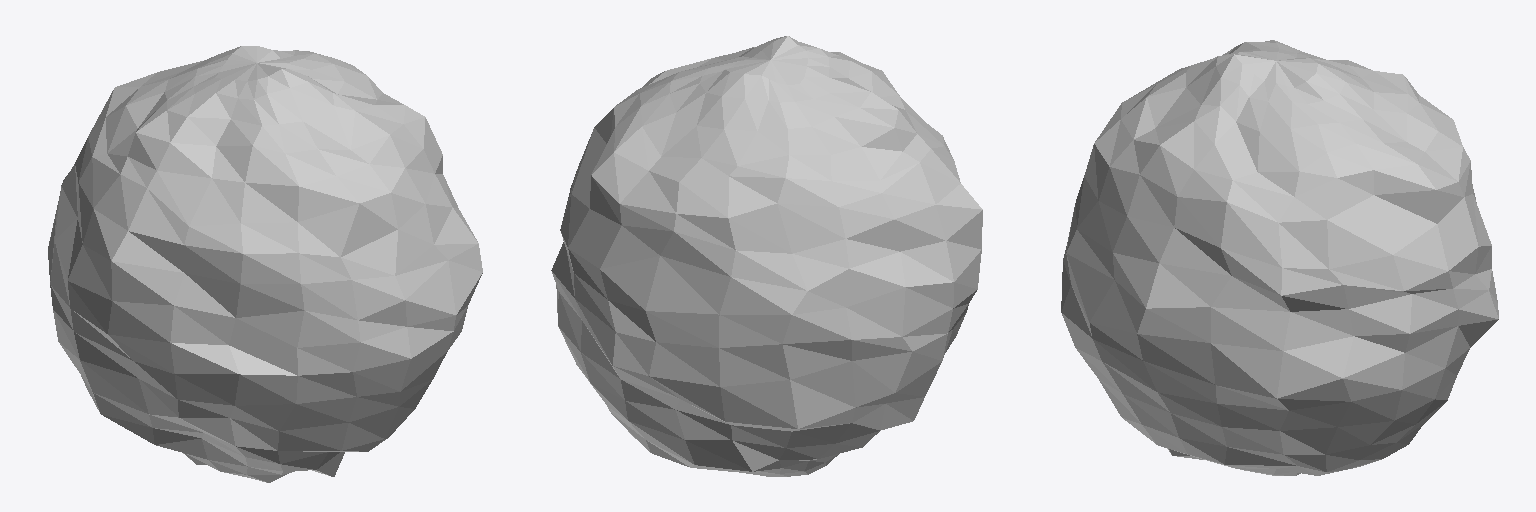
The model's file is asteroid.obj.
The picture shows the model from 3 angles: view 1: azimuth 30°, elevation 25°; view 2: azimuth 150°, elevation 25°; view 3: azimuth 270°, elevation 25°; orthographic projection.
Visible parts, largest first — view 1: sphere; view 2: sphere; view 3: sphere.
Boxes of the visible parts, x1,y1,x2,y2 form: sphere: [48, 46, 482, 482]; sphere: [551, 36, 982, 476]; sphere: [1061, 40, 1498, 475].
Bounding box in the file's own units: 0.9926 × 1.03 × 1.